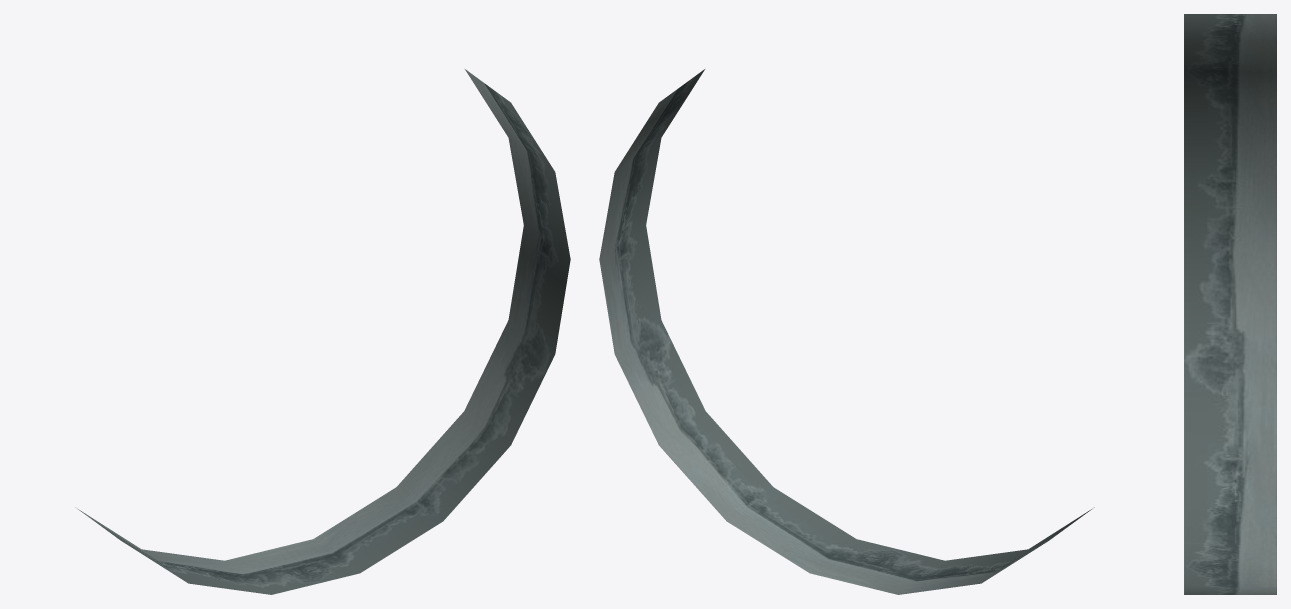
Rendered from backdrop_newvillers_trees.glb.
3 views of the same model, side by side, from view 1: azimuth 30°, elevation 25°; view 2: azimuth 150°, elevation 25°; view 3: azimuth 270°, elevation 25° (orthographic).
Bounding box in the file's own units: 21656 × 21327 × 3447.
1 material, 1 textured.
